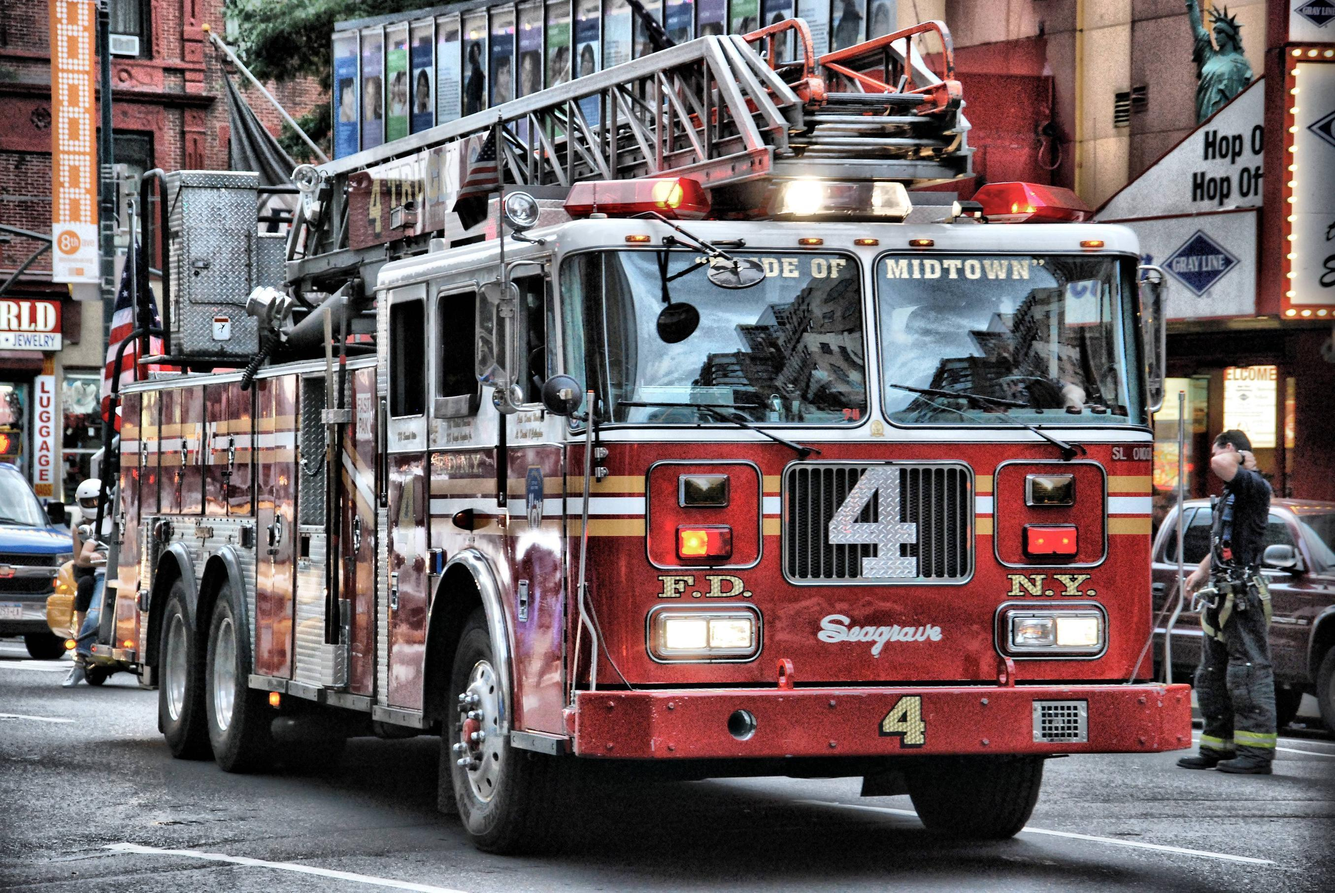Fire-engine: (46, 25, 1198, 860)
